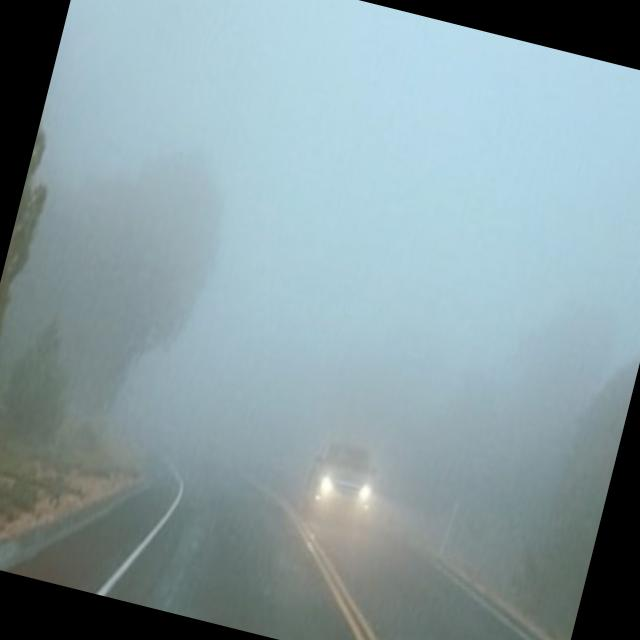car: (297, 433, 383, 531)
